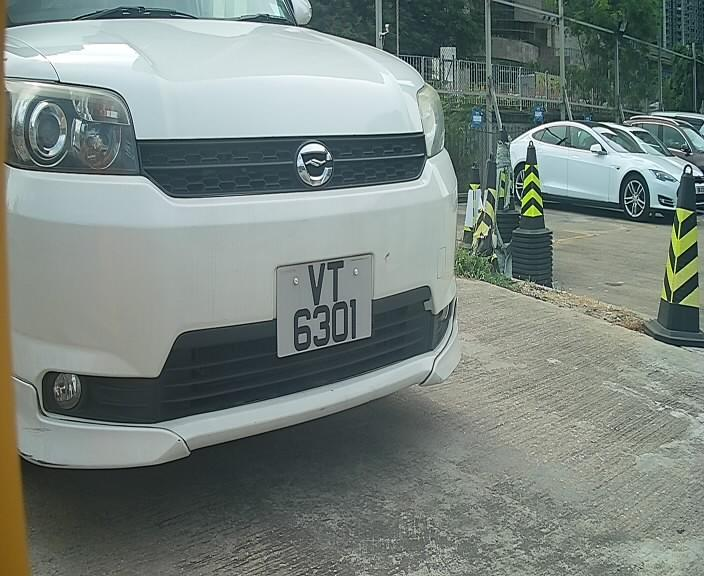License Plate: (268, 245, 381, 366)
